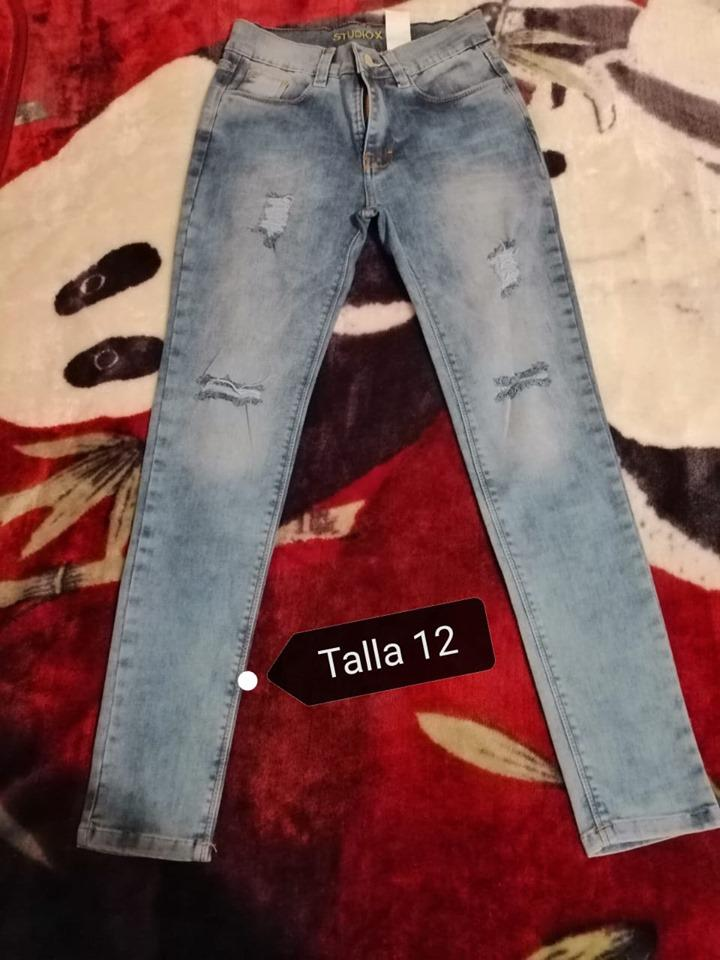Jeans: (64, 0, 720, 872)
